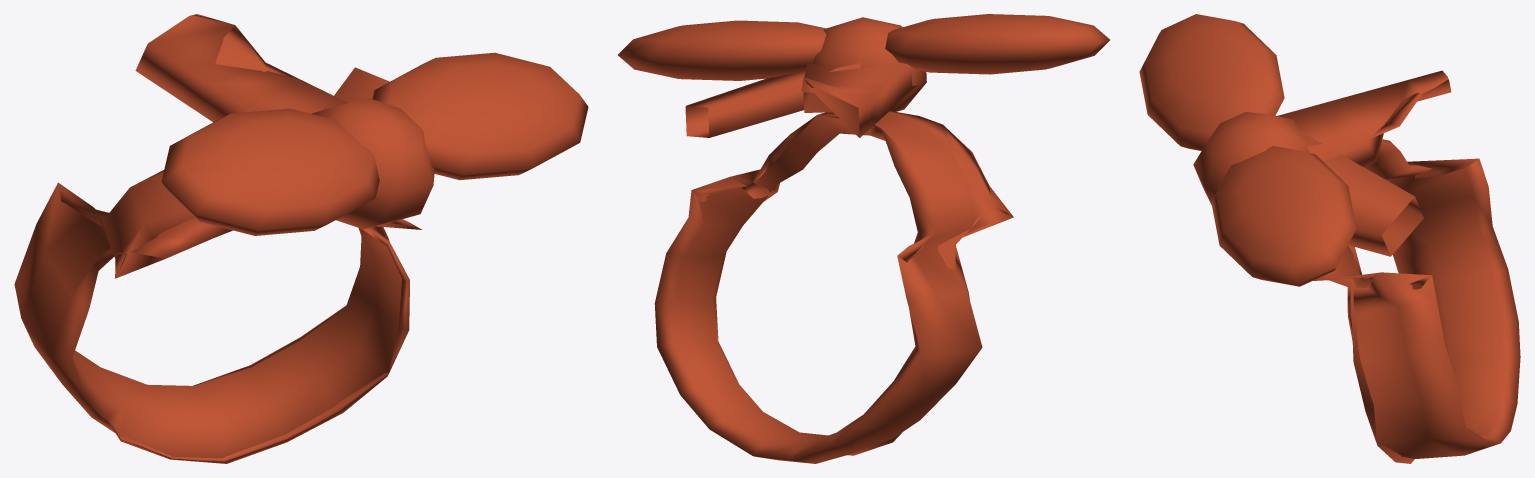
The model's file is toad-acc-bow.glb.
3 renders of one model, left to right at view 1: azimuth 30°, elevation 25°; view 2: azimuth 150°, elevation 25°; view 3: azimuth 270°, elevation 25°, orthographic. The views are drawn at different scales.
Parts seen in each view (by area): view 1: pinch-bow; view 2: pinch-bow; view 3: pinch-bow.
Boxes of the visible parts, x1,y1,x2,y2 form: pinch-bow: (14,14,588,463); pinch-bow: (618,14,1109,463); pinch-bow: (1139,14,1520,463).
Bounding box in the file's own units: 0.0112 × 0.00978 × 0.00911.
